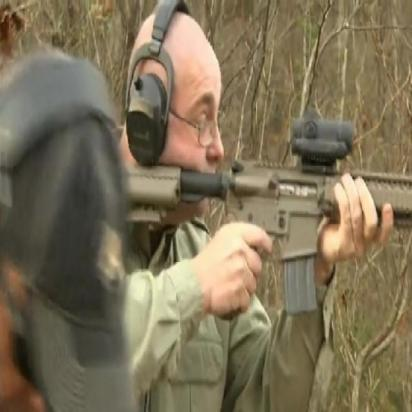Gun: (122, 124, 412, 322)
